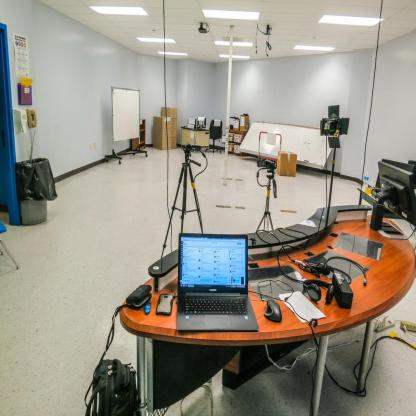board: (168, 235, 260, 335), (362, 170, 369, 193)
